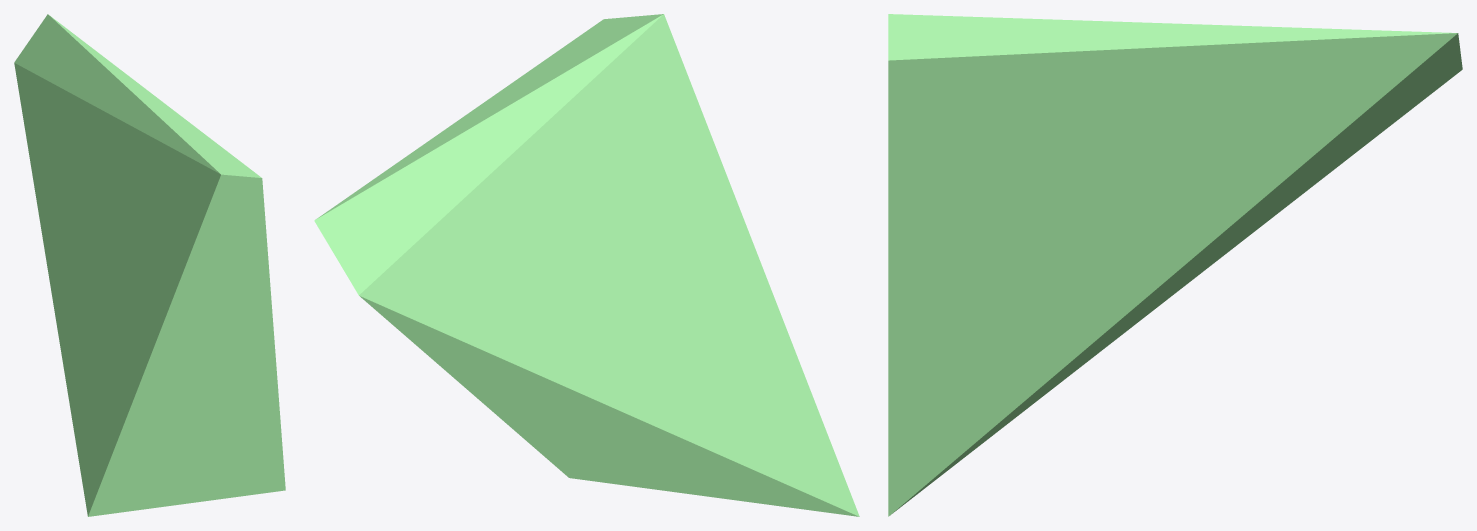
File: UMIRobot_robot_base_coll_22.dae
The picture shows the model from 3 angles, left to right: view 1: azimuth 30°, elevation 25°; view 2: azimuth 150°, elevation 25°; view 3: azimuth 270°, elevation 25°; orthographic projection. The views are drawn at different scales.
Visible parts, largest first — view 1: node; view 2: node; view 3: node.
Part boxes in pixels (x1,y1,x2,y2): node: [14, 14, 285, 516]; node: [314, 14, 859, 516]; node: [888, 14, 1462, 516].
Bounding box in the file's own units: 0.00845 × 0.0136 × 0.0153.
